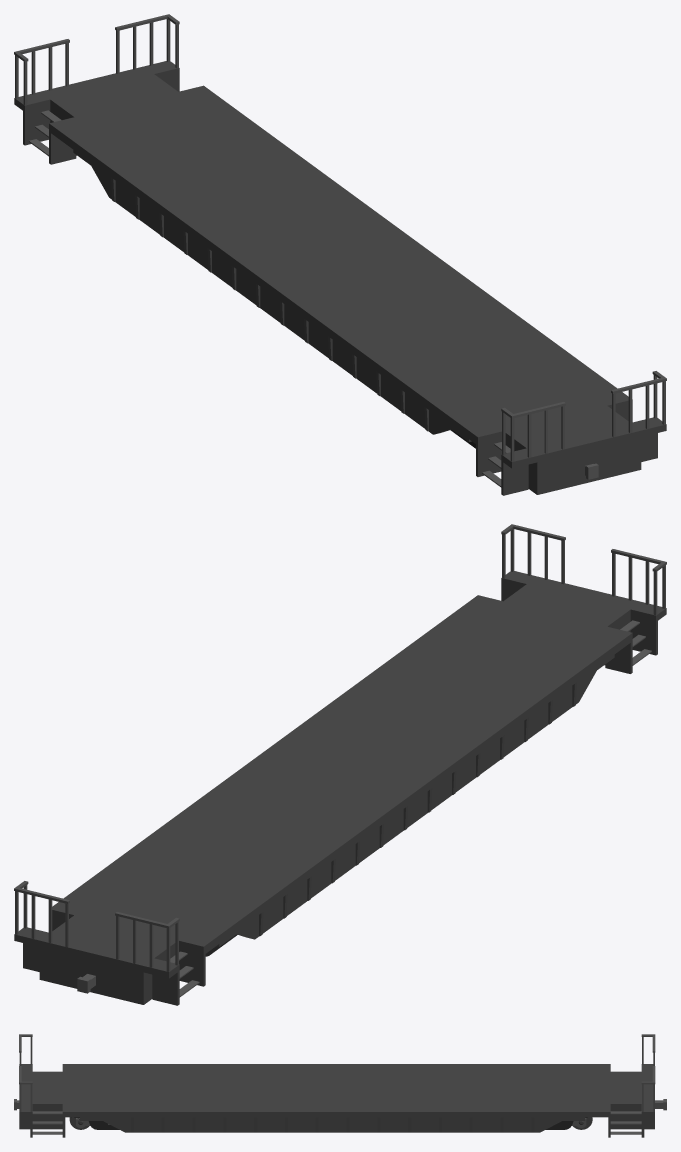
The model's file is SM_Vehicles_Train_03.fbx.
3 renders of one model, top to bottom at view 1: azimuth 30°, elevation 25°; view 2: azimuth 150°, elevation 25°; view 3: azimuth 270°, elevation 25°, orthographic. The views are drawn at different scales.
Parts seen in each view (by area): view 1: SM_Vehicles_Train_03; view 2: SM_Vehicles_Train_03; view 3: SM_Vehicles_Train_03.
Part boxes in pixels (box(x1,y1,x2,y2)): SM_Vehicles_Train_03: box(14, 14, 666, 495); SM_Vehicles_Train_03: box(14, 524, 666, 1005); SM_Vehicles_Train_03: box(14, 1034, 666, 1137).
Size of the model in its own units: 3.51 by 2.02 by 20.02.
